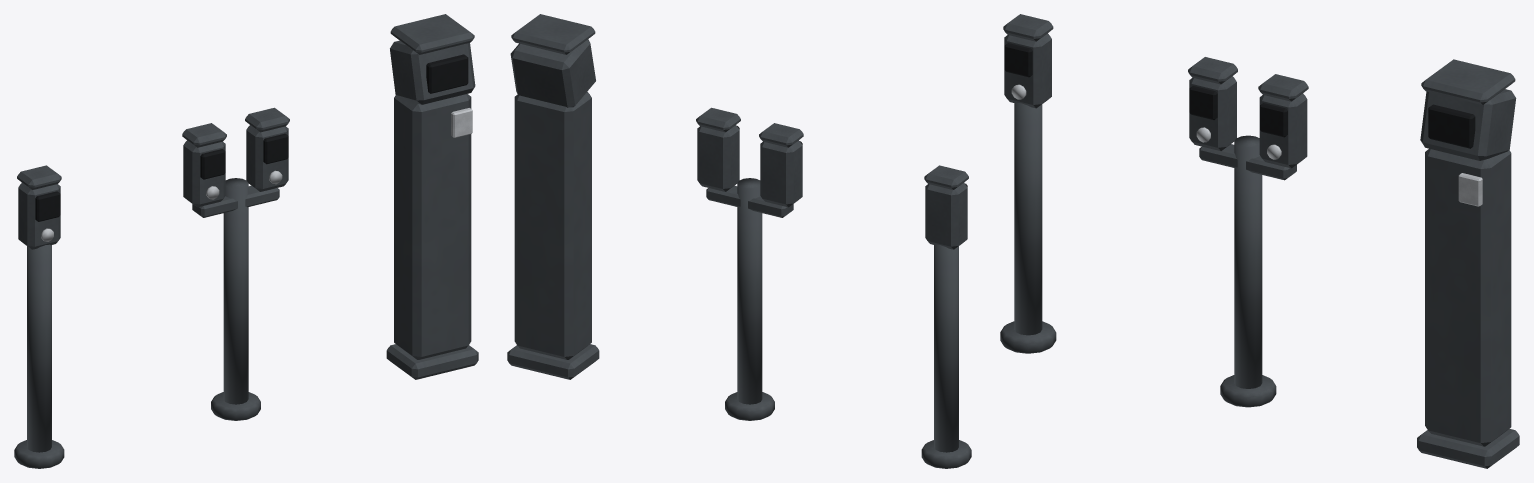
The model's file is parking_meter.glb.
3 views of the same model, side by side, from view 1: azimuth 30°, elevation 25°; view 2: azimuth 150°, elevation 25°; view 3: azimuth 330°, elevation 25° (orthographic). The views are drawn at different scales.
Visible parts, largest first — view 1: parking_meter_v3, parking_meter_v2, parking_meter_v1; view 2: parking_meter_v3, parking_meter_v2, parking_meter_v1; view 3: parking_meter_v3, parking_meter_v2, parking_meter_v1.
Part boxes in pixels (x1,y1,x2,y2): parking_meter_v3: [386, 14, 478, 379]; parking_meter_v2: [182, 107, 289, 420]; parking_meter_v1: [14, 165, 64, 468]; parking_meter_v3: [507, 14, 599, 379]; parking_meter_v2: [696, 107, 803, 420]; parking_meter_v1: [921, 165, 971, 468]; parking_meter_v3: [1417, 59, 1519, 468]; parking_meter_v2: [1188, 57, 1308, 407]; parking_meter_v1: [1000, 14, 1056, 353].
Bounding box in the file's own units: 2.28 × 1.62 × 0.2918.
2 materials, 2 textured.
